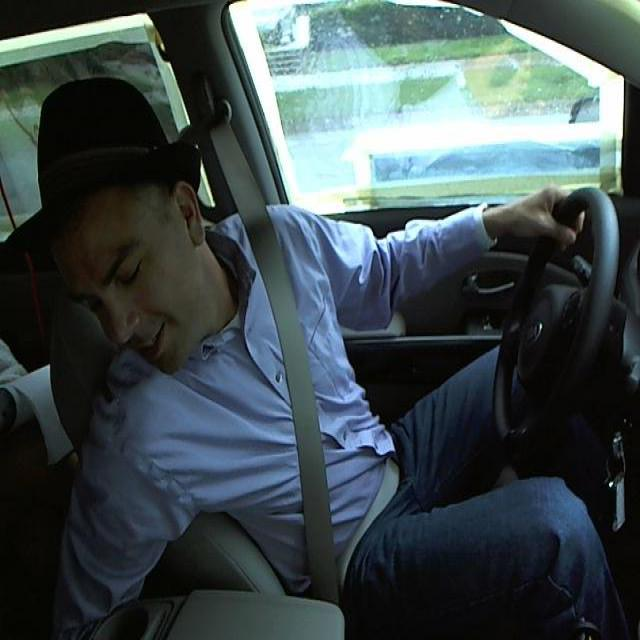seatbelt: (210, 151, 354, 598)
